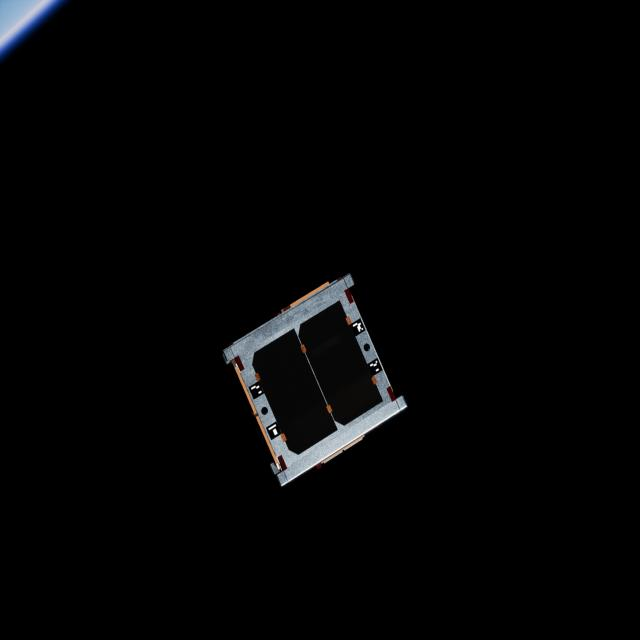medium_debris: (218, 269, 408, 489)
